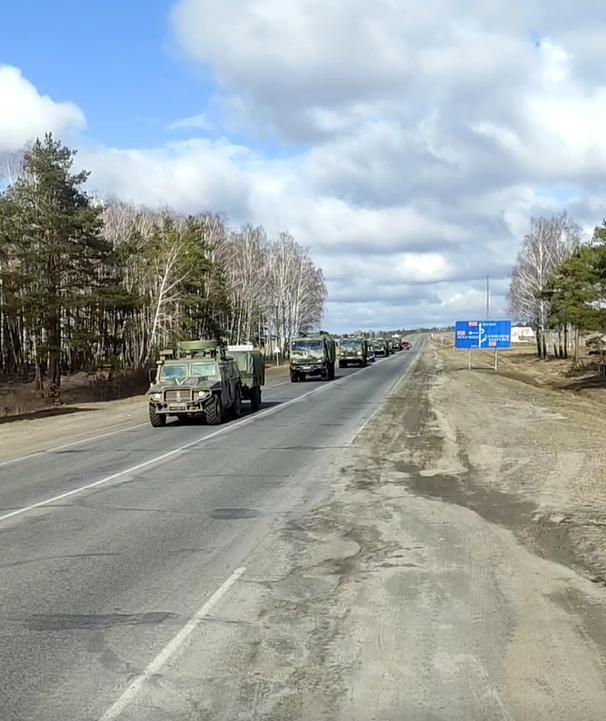armored_car: (146, 337, 261, 434)
truck: (291, 334, 339, 388), (339, 329, 370, 374), (374, 336, 390, 360), (393, 336, 403, 355)
